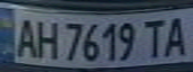1: (100, 19, 121, 62)
6: (78, 19, 103, 62)
7: (60, 19, 84, 62)
9: (115, 18, 142, 61)
A: (160, 12, 193, 59), (12, 15, 39, 58)
H: (30, 16, 60, 60)
T: (139, 16, 169, 58)
